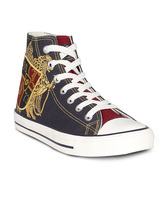shoes: (12, 25, 157, 160)
